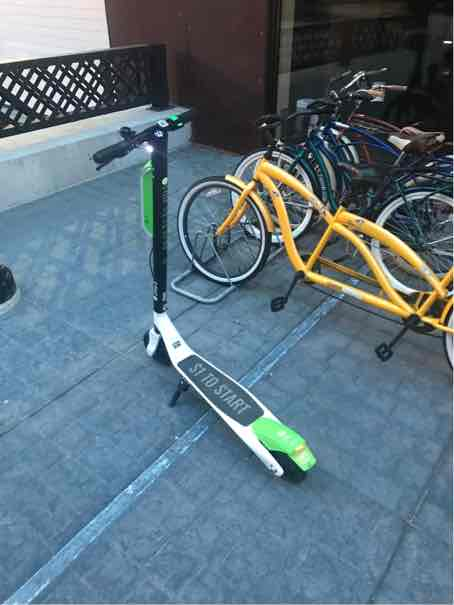scooter: (79, 90, 323, 496)
